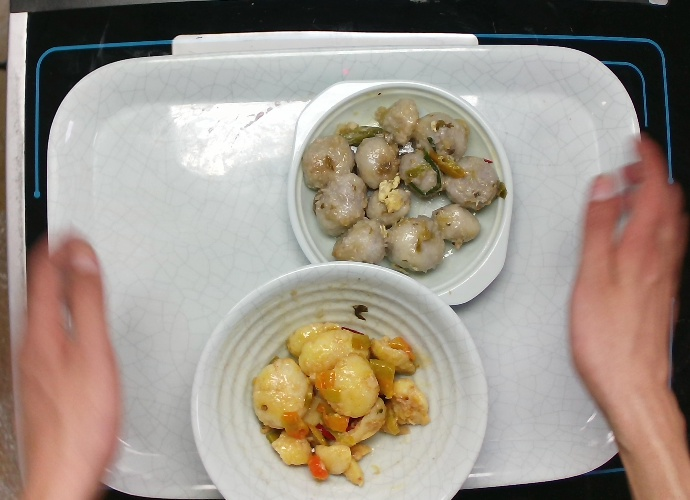JYsf-Shuang_Er_Pan: (282, 73, 517, 313)
JYsf-Xiao_Tang_Wan: (187, 257, 490, 499)
